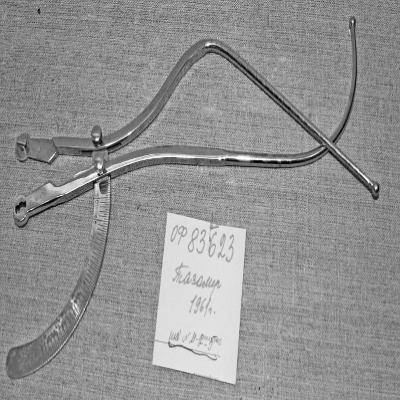other: (6, 18, 380, 381)
